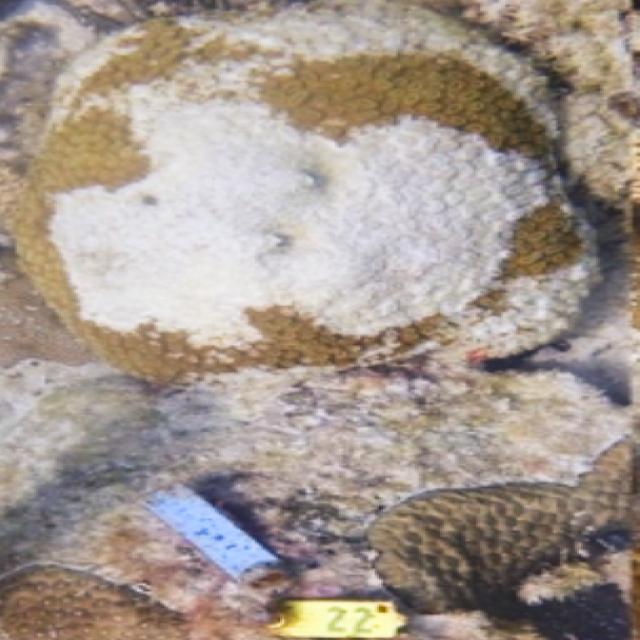Coral: (0, 1, 606, 390), (365, 420, 640, 616), (0, 559, 187, 640)
